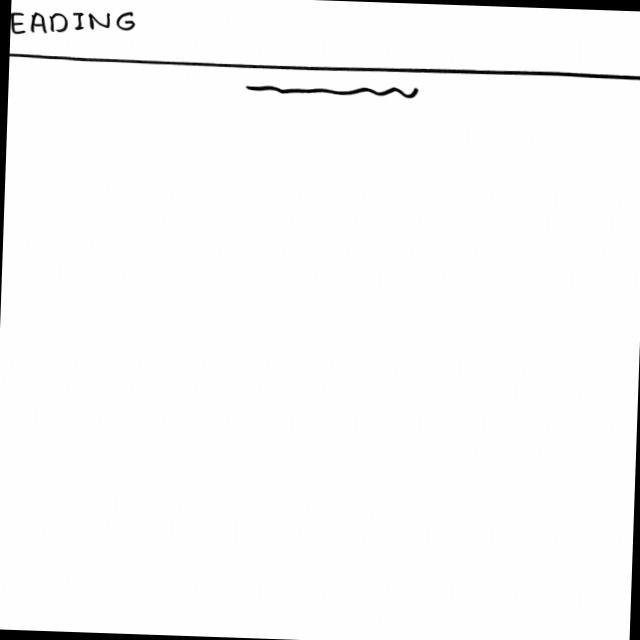label: (11, 4, 143, 43)
text: (244, 83, 422, 103)
